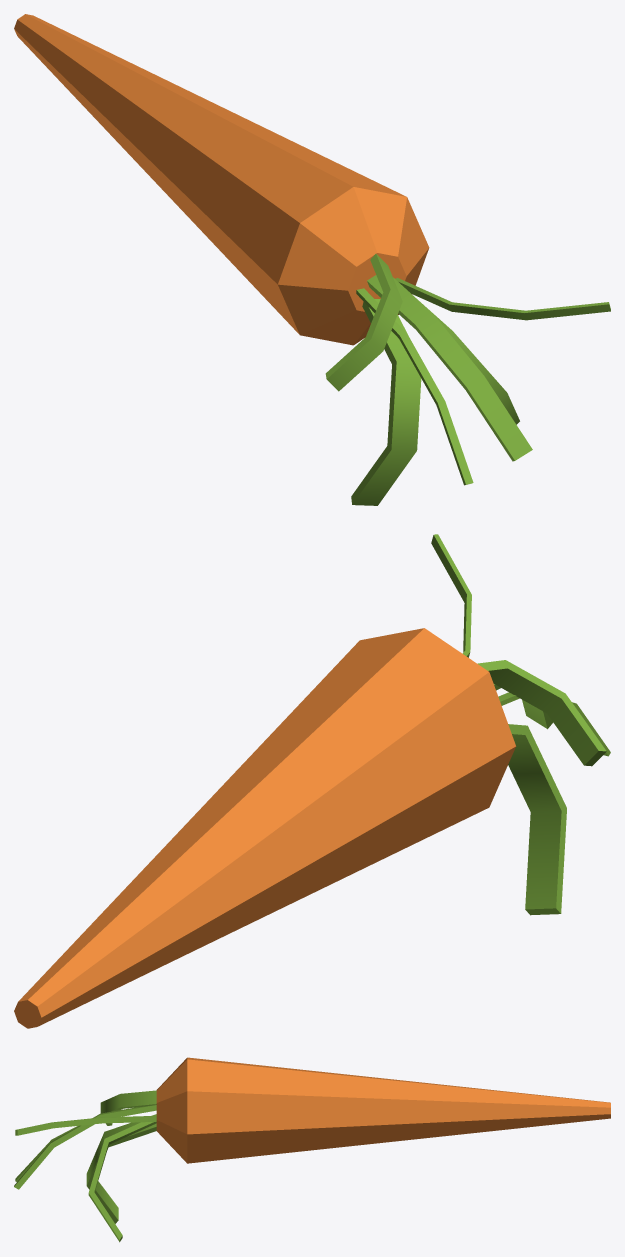
The model's file is carot.fbx.
The picture shows the model from 3 angles, top to bottom: view 1: azimuth 30°, elevation 25°; view 2: azimuth 150°, elevation 25°; view 3: azimuth 270°, elevation 25°; orthographic projection. The views are drawn at different scales.
Visible parts, largest first — view 1: carot; view 2: carot; view 3: carot.
Boxes of the visible parts, bbox=[...] form: carot: bbox=[14, 14, 610, 505]; carot: bbox=[14, 534, 610, 1028]; carot: bbox=[14, 1057, 610, 1242].
Size of the model in its own units: 113 by 136 by 423.
Materials: 1 (1 with a texture image).
